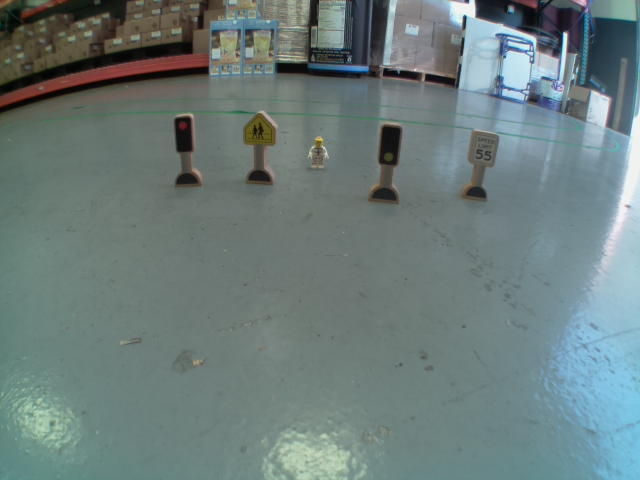Green Traffic Light: (375, 118, 405, 169)
Red Traffic Light: (171, 113, 198, 154)
Speed Limit 55: (467, 128, 499, 171)
YIELD: (240, 107, 276, 149)
person: (304, 132, 332, 171)
